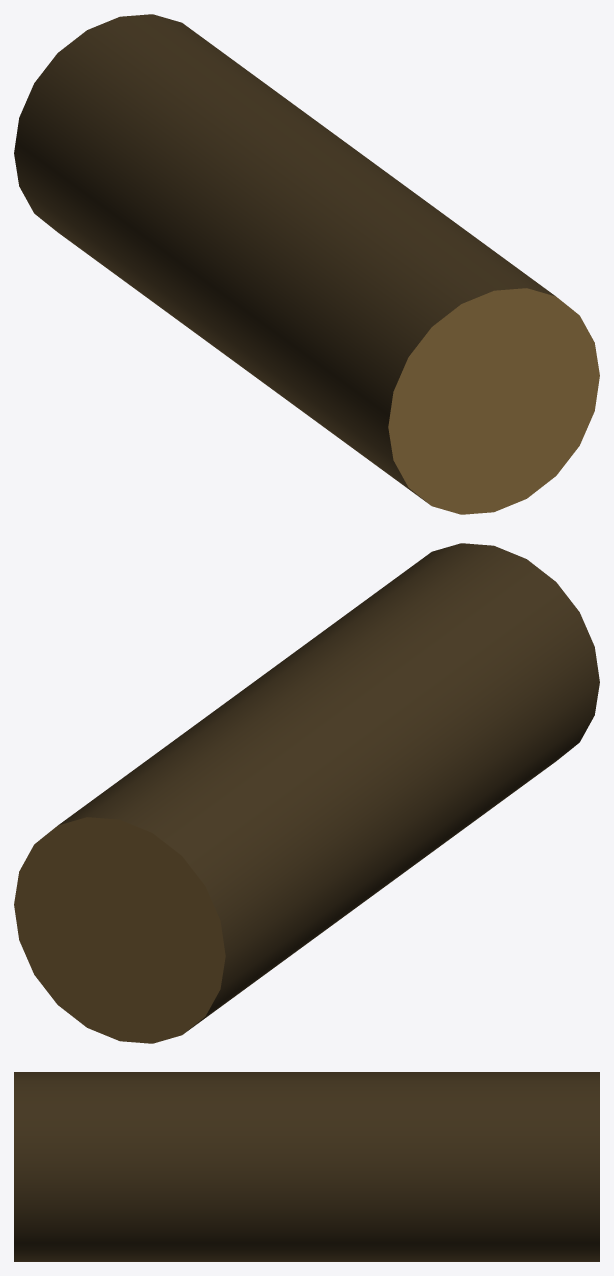
The model's file is resourceWood.glb.
3 views of the same model, one above another, from view 1: azimuth 30°, elevation 25°; view 2: azimuth 150°, elevation 25°; view 3: azimuth 270°, elevation 25° (orthographic). The views are drawn at different scales.
Visible parts, largest first — view 1: Cylinder; view 2: Cylinder; view 3: Cylinder.
Part boxes in pixels (x1,y1,x2,y2): Cylinder: (14, 14, 599, 514); Cylinder: (14, 543, 599, 1043); Cylinder: (14, 1072, 599, 1261).
Size of the model in its own units: 0.3156 by 0.3156 by 0.9665.
Materials: 1 (1 with a texture image).
